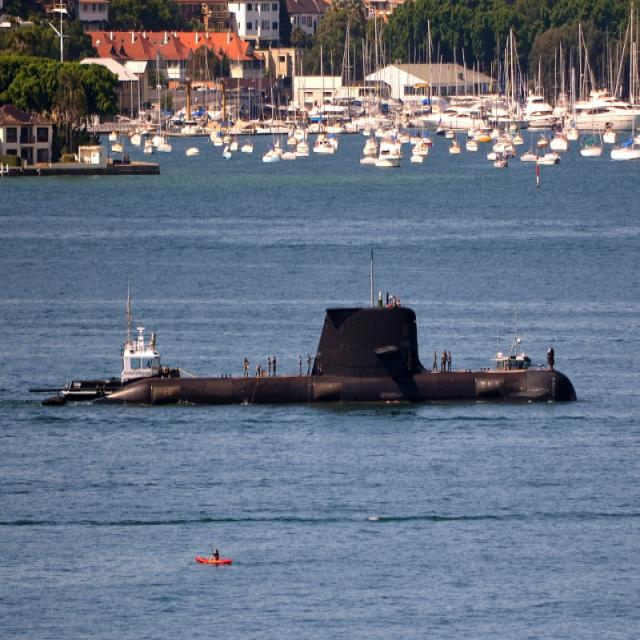submarine: (103, 299, 581, 401)
